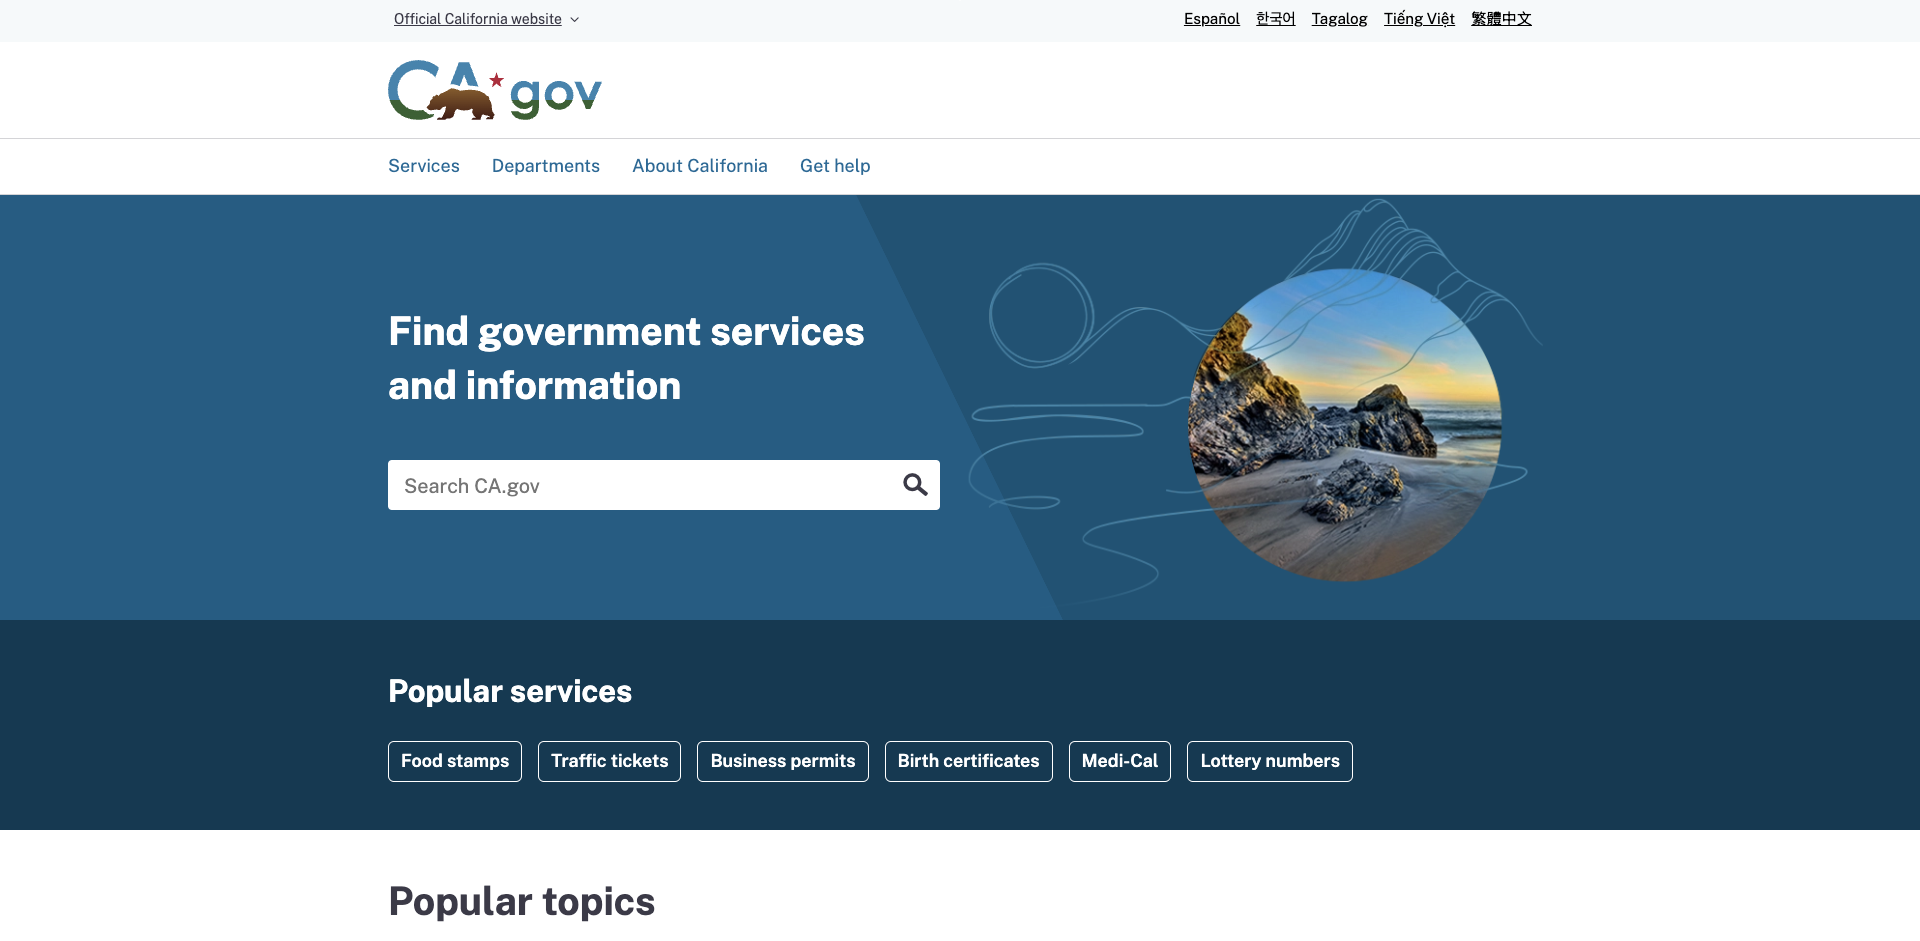button: (698, 741, 868, 783), (884, 741, 1053, 783), (1188, 741, 1353, 783), (539, 741, 681, 783), (388, 4, 593, 32), (388, 741, 522, 783), (1069, 741, 1172, 783), (890, 461, 940, 511), (1875, 803, 1920, 852)
dropdown: (372, 138, 1548, 194)
input: (388, 461, 898, 511)
link: (388, 58, 604, 123), (616, 138, 784, 194), (476, 138, 616, 194), (372, 138, 476, 194), (784, 138, 887, 194), (1384, 9, 1455, 31), (1471, 9, 1532, 31), (1184, 9, 1240, 31), (1311, 9, 1368, 31), (1256, 9, 1296, 31), (960, 0, 960, 1)
